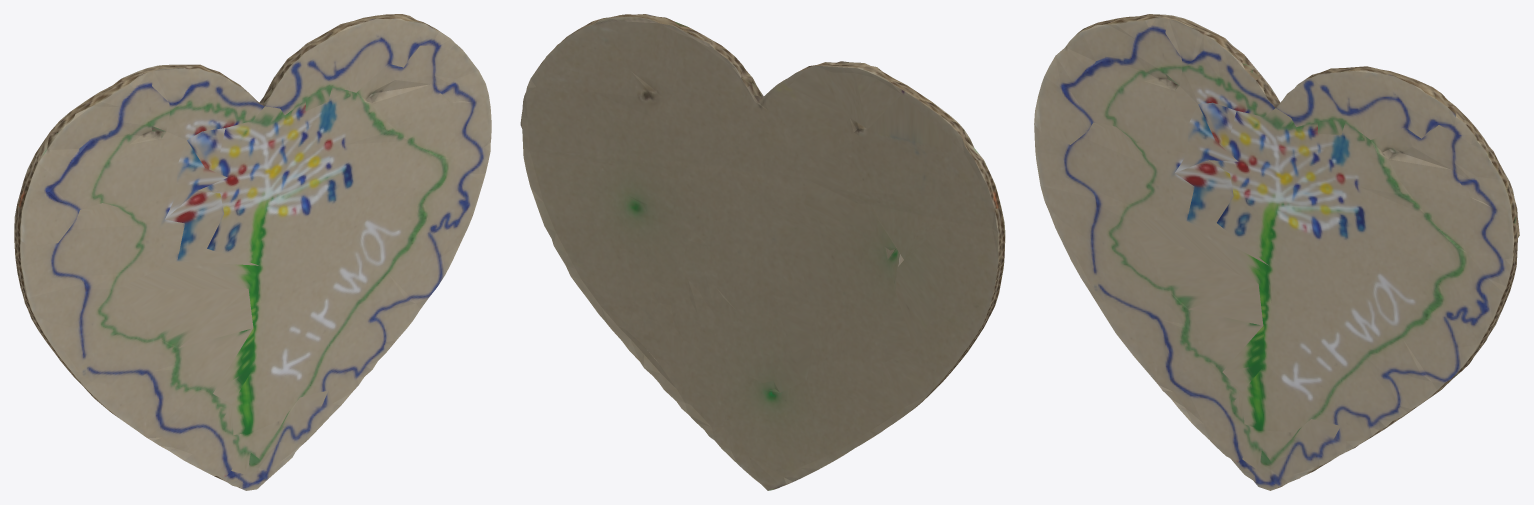
The model's file is 58B3CEA6-4AA0-5346-9C32-22930C2A57DA_512.glb.
3 views of the same model, side by side, from view 1: azimuth 30°, elevation 25°; view 2: azimuth 150°, elevation 25°; view 3: azimuth 330°, elevation 25° (orthographic).
Parts seen in each view (by area): view 1: _Pappherz Kirwabaum_1k; view 2: _Pappherz Kirwabaum_1k; view 3: _Pappherz Kirwabaum_1k.
Boxes of the visible parts, x1,y1,x2,y2 form: _Pappherz Kirwabaum_1k: (14,14,491,490); _Pappherz Kirwabaum_1k: (520,14,1005,490); _Pappherz Kirwabaum_1k: (1034,14,1519,490).
Bounding box in the file's own units: 0.2826 × 0.2534 × 0.0131.
1 material, 1 textured.
